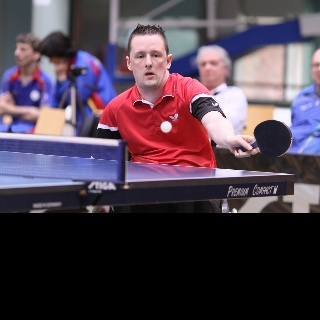without_mask: (127, 34, 166, 88), (199, 51, 224, 87), (12, 42, 34, 68)
